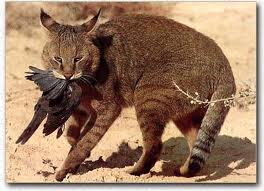cat: (25, 7, 241, 182)
